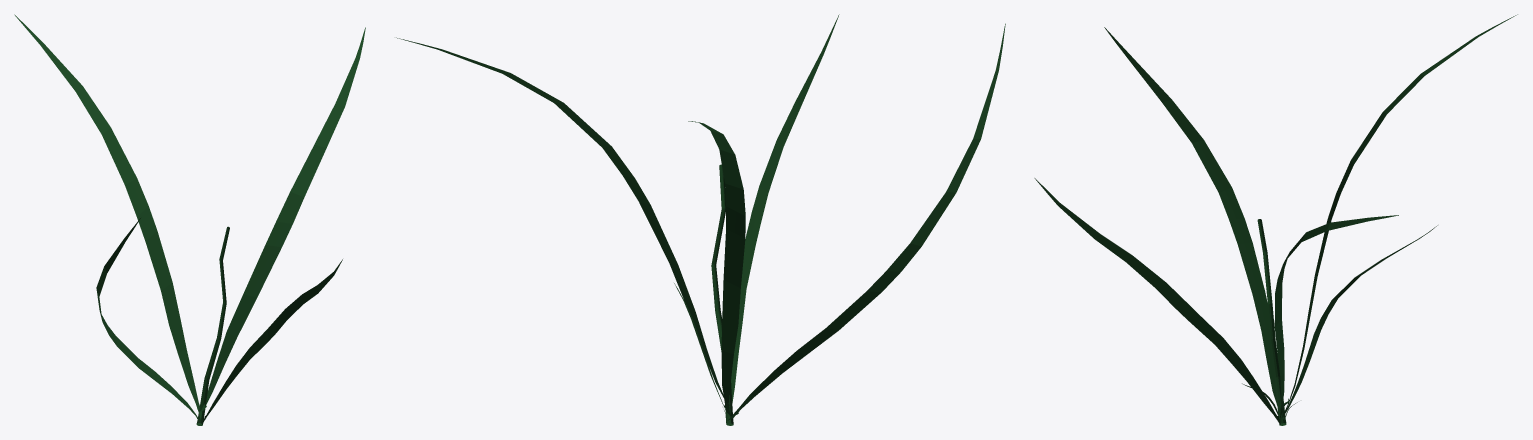
Rendered from grass 1.fbx.
3 views of the same model, side by side, from view 1: azimuth 30°, elevation 25°; view 2: azimuth 150°, elevation 25°; view 3: azimuth 270°, elevation 25° (orthographic). The views are drawn at different scales.
Visible parts, largest first — view 1: Grass 3; view 2: Grass 3; view 3: Grass 3.
Part boxes in pixels (x1=…): Grass 3: x1=14, y1=14, x2=365, y2=425; Grass 3: x1=396, y1=14, x2=1005, y2=425; Grass 3: x1=1034, y1=14, x2=1517, y2=425.
Size of the model in its own units: 54.94 by 49.45 by 58.4.
